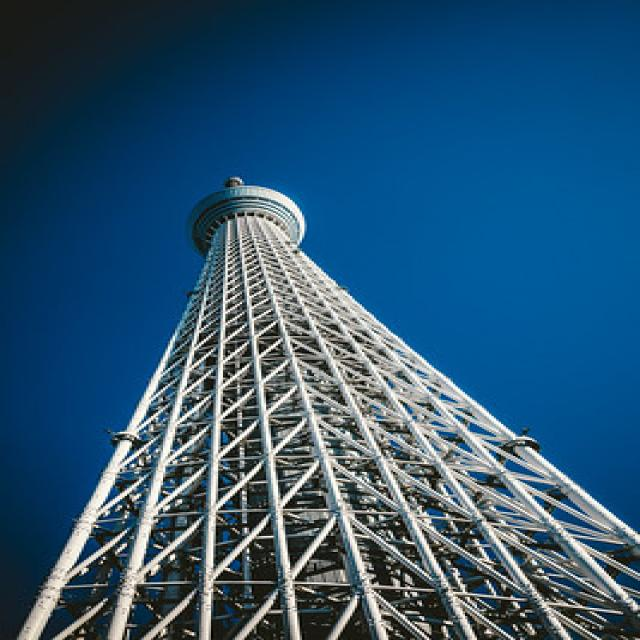building: (17, 173, 640, 640)
